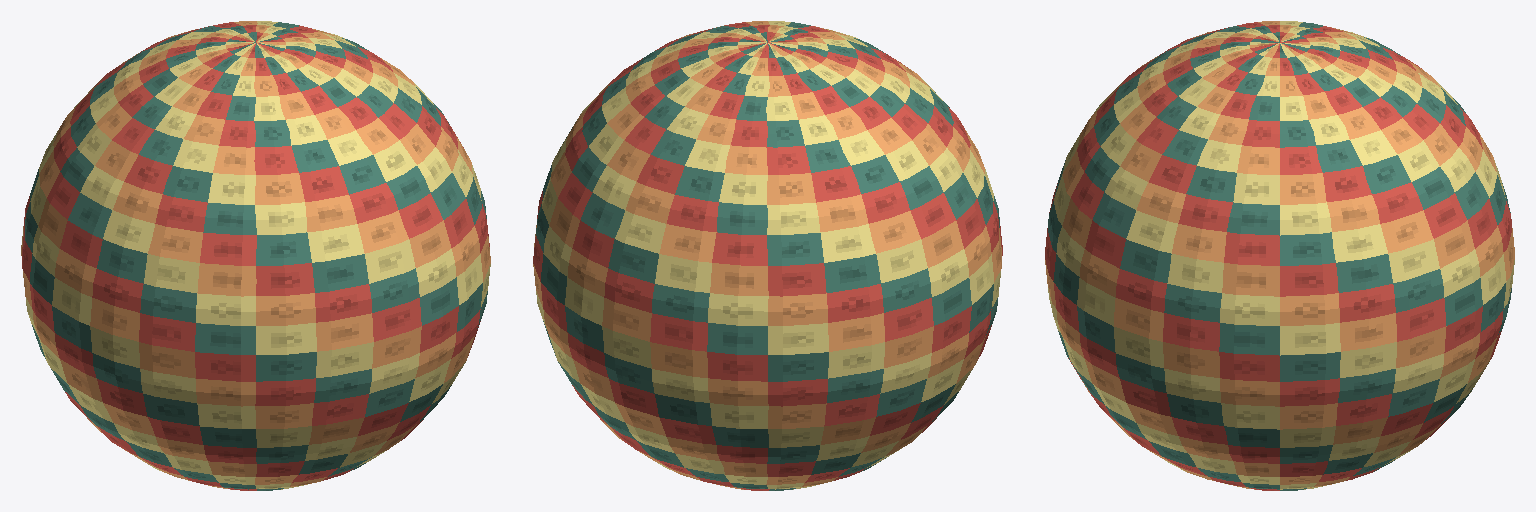
3 renders of one model, left to right at view 1: azimuth 30°, elevation 25°; view 2: azimuth 150°, elevation 25°; view 3: azimuth 270°, elevation 25°, orthographic.
Parts seen in each view (by area): view 1: Sphere; view 2: Sphere; view 3: Sphere.
Boxes of the visible parts, x1=… form: Sphere: x1=21, y1=21, x2=490, y2=490; Sphere: x1=533, y1=21, x2=1002, y2=490; Sphere: x1=1045, y1=21, x2=1514, y2=490.
Size of the model in its own units: 4 by 4 by 4.
Materials: 1 (1 with a texture image).